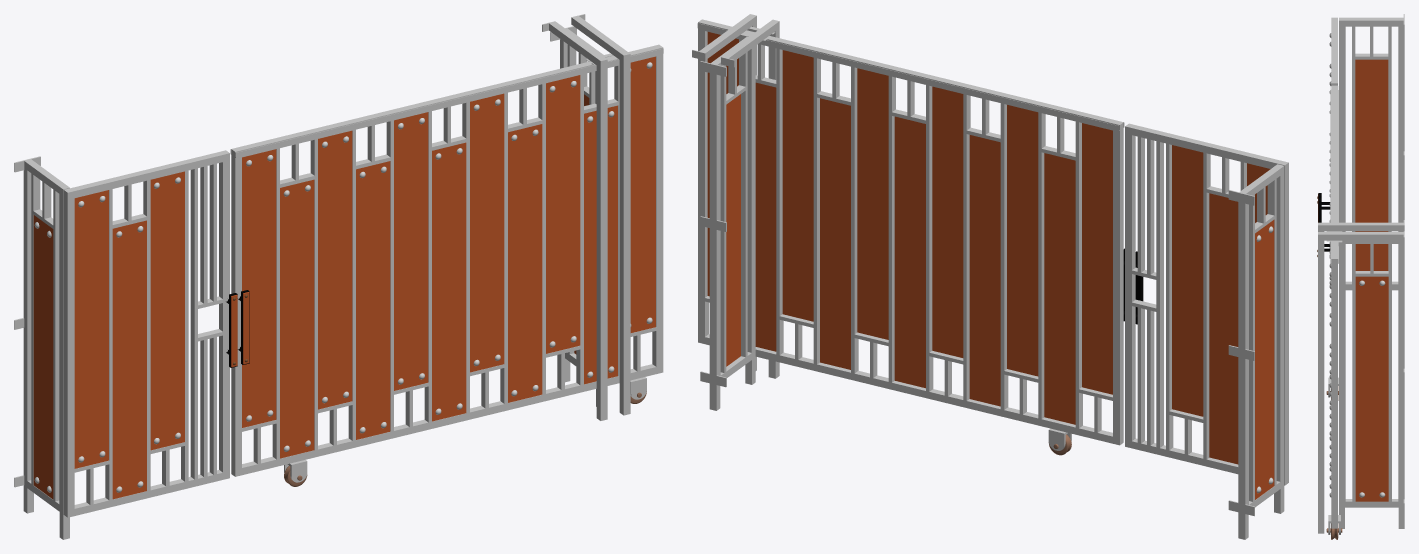
The model's file is pagar-concept-002-RAW-REV0111.glb.
3 renders of one model, left to right at view 1: azimuth 30°, elevation 25°; view 2: azimuth 150°, elevation 25°; view 3: azimuth 270°, elevation 25°, orthographic. The views are drawn at different scales.
Parts seen in each view (by area): view 1: Plane.095, Plane.122, Plane.094, Plane.092, Plane.123, Plane.093, Plane.108, Plane.118, Plane.119, Plane.116, Plane.100, Sphere.013; view 2: Plane.095, Plane.094, Plane.122, Plane.123, Plane.092, Plane.093, Plane.119, Plane.114, Plane.118, Plane.113, Plane.115, Plane.116 (+4 smaller); view 3: Plane.115, Plane.118, Plane.114, Plane.108, Plane.119, Plane.123, Plane.113, Plane.116, Plane.093, Plane.100, Sphere.013, Plane.096 (+2 smaller).
Boxes of the visible parts, box(x1,y1,x2,y2) form: Plane.095: box(242, 56, 655, 458); Plane.122: box(74, 171, 184, 499); Plane.094: box(242, 65, 656, 463); Plane.092: box(74, 163, 222, 504); Plane.123: box(231, 44, 663, 476); Plane.093: box(63, 150, 229, 517); Plane.108: box(542, 14, 630, 420); Plane.118: box(33, 215, 53, 499); Plane.119: box(23, 158, 69, 514); Plane.116: box(31, 173, 59, 501); Plane.100: box(230, 48, 663, 157); Sphere.013: box(246, 62, 652, 451); Plane.095: box(707, 32, 1112, 424); Plane.094: box(705, 39, 1112, 432); Plane.122: box(1172, 145, 1270, 464); Plane.123: box(698, 19, 1123, 445); Plane.092: box(1132, 136, 1246, 459); Plane.093: box(1125, 123, 1288, 485); Plane.119: box(1238, 164, 1284, 514); Plane.114: box(709, 37, 755, 385); Plane.118: box(1255, 220, 1274, 499); Plane.113: box(720, 52, 747, 372); Plane.115: box(726, 94, 740, 366); Plane.116: box(1249, 179, 1276, 501); Plane.115: box(1355, 276, 1388, 501); Plane.118: box(1355, 59, 1388, 270); Plane.114: box(1339, 240, 1404, 507); Plane.108: box(1318, 220, 1404, 533); Plane.119: box(1339, 17, 1404, 290); Plane.123: box(1331, 85, 1337, 528); Plane.113: box(1352, 244, 1391, 501); Plane.116: box(1352, 26, 1391, 283); Plane.093: box(1331, 17, 1337, 85); Plane.100: box(1330, 86, 1338, 263); Sphere.013: box(1329, 102, 1331, 497); Plane.096: box(1318, 198, 1330, 251).
Bounding box in the file's own units: 3.5 × 1.99 × 0.5297.
